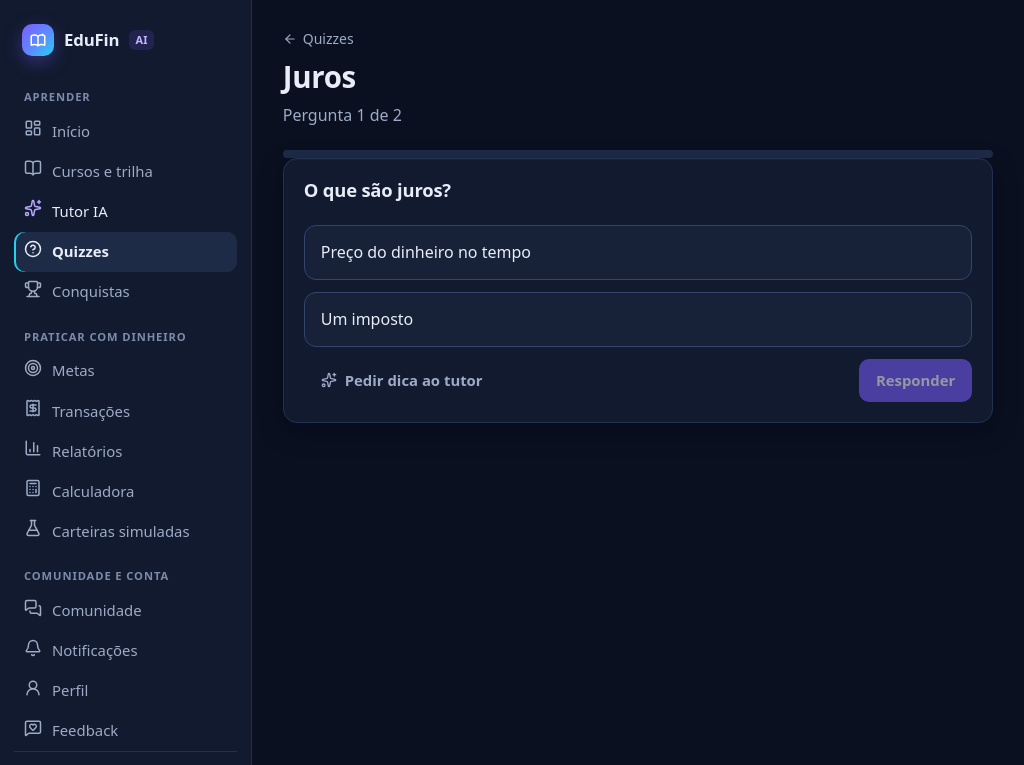
it: quiz › mostra a correção vinda do servidor só depois de responder
Expected: the heading "O que são juros?" is shown, [304, 177, 451, 202]
Expected: the text "alternativa correta" is not shown
Click the radio button labelled "Um imposto": (367, 319) [304, 292, 972, 347]
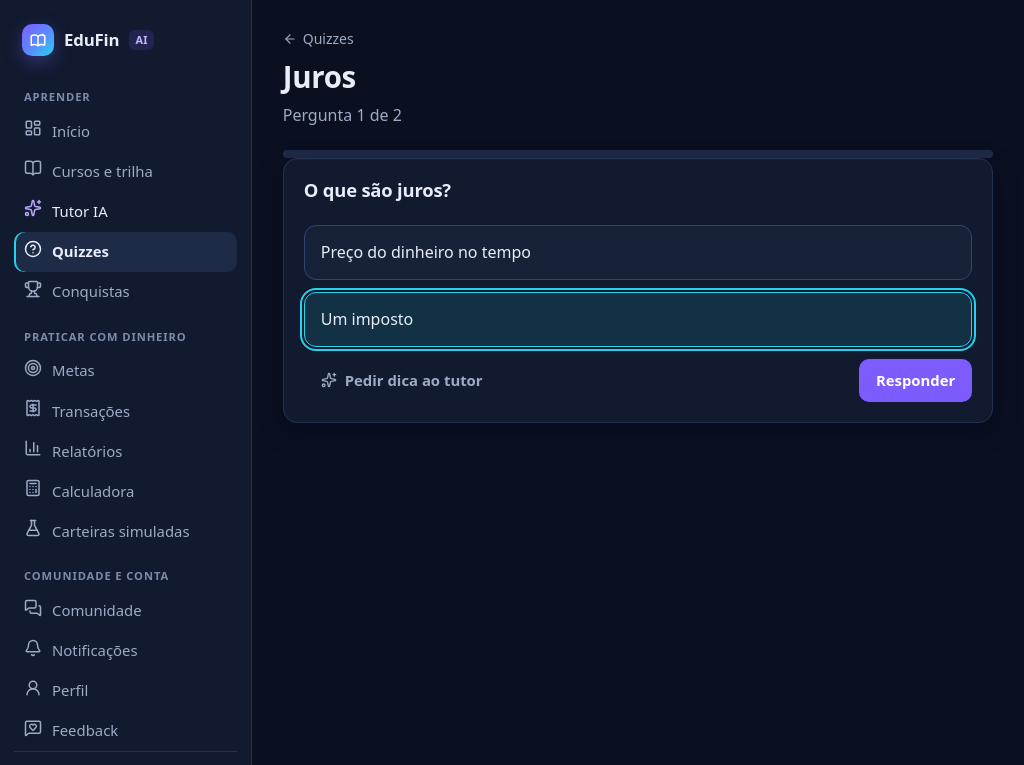
Click the button "Responder": (916, 380) [859, 359, 972, 402]
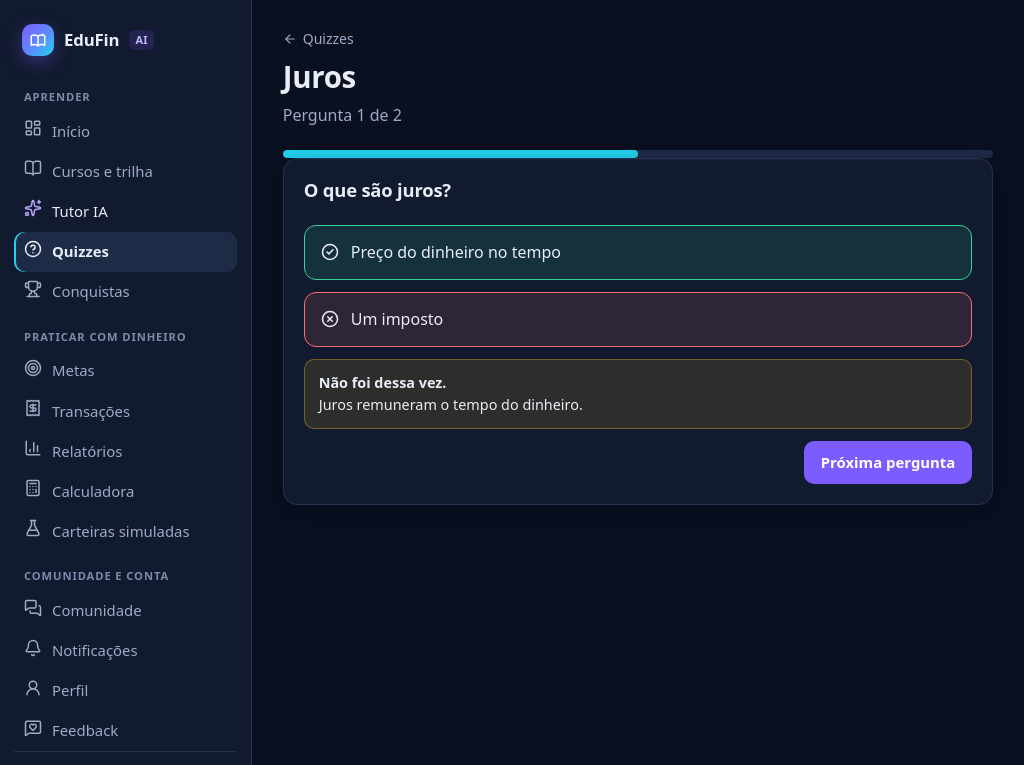
Now the text "Não foi dessa vez." is shown, box [319, 373, 446, 392]
Now the text "Juros remuneram o tempo do dinheiro." is shown, box [319, 394, 583, 416]
Now the button "Próxima pergunta" is shown, box [804, 441, 972, 484]
